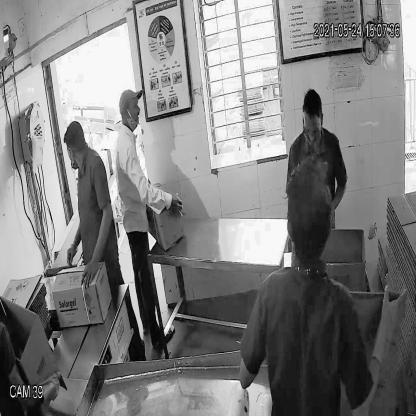no_goggles: (119, 97, 142, 116)
